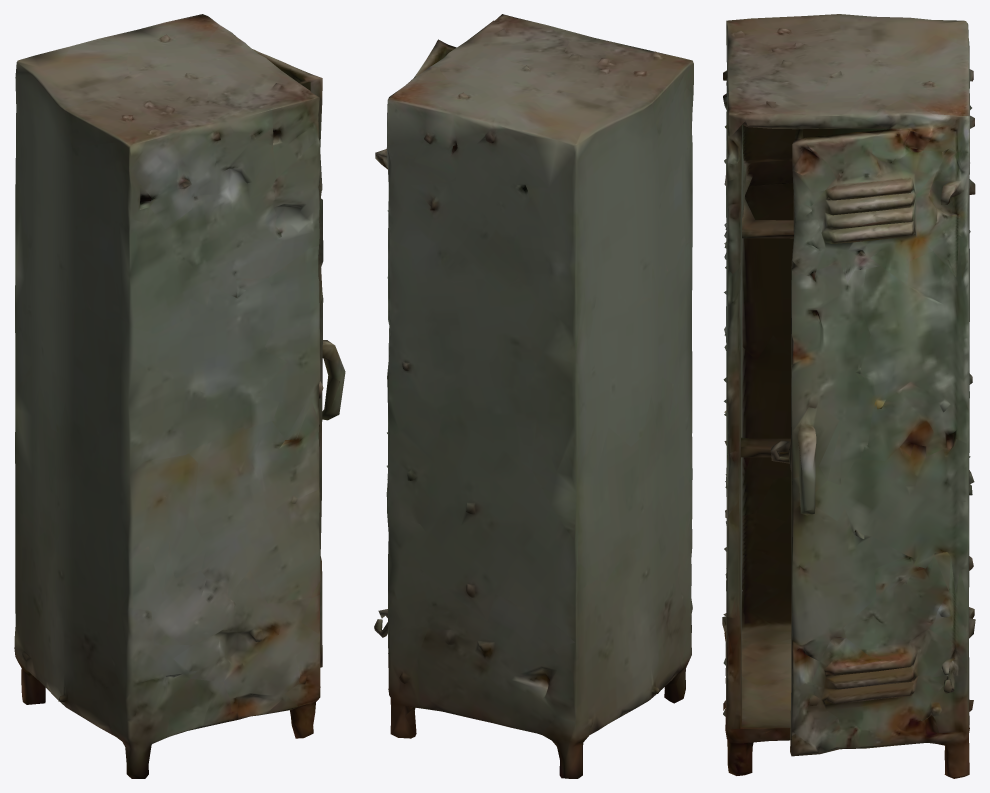
File: locker.glb
The picture shows the model from 3 angles, left to right: view 1: azimuth 30°, elevation 25°; view 2: azimuth 150°, elevation 25°; view 3: azimuth 270°, elevation 25°; orthographic projection. The views are drawn at different scales.
Visible parts, largest first — view 1: tripo_node_dbdf7e3a-8275-43f9-8566-021b20acb0ab; view 2: tripo_node_dbdf7e3a-8275-43f9-8566-021b20acb0ab; view 3: tripo_node_dbdf7e3a-8275-43f9-8566-021b20acb0ab.
Boxes of the visible parts, x1,y1,x2,y2 form: tripo_node_dbdf7e3a-8275-43f9-8566-021b20acb0ab: (14, 14, 345, 778); tripo_node_dbdf7e3a-8275-43f9-8566-021b20acb0ab: (374, 14, 693, 778); tripo_node_dbdf7e3a-8275-43f9-8566-021b20acb0ab: (722, 14, 975, 778).
Bounding box in the file's own units: 0.4383 × 1 × 0.3421.
Materials: 1 (1 with a texture image).
